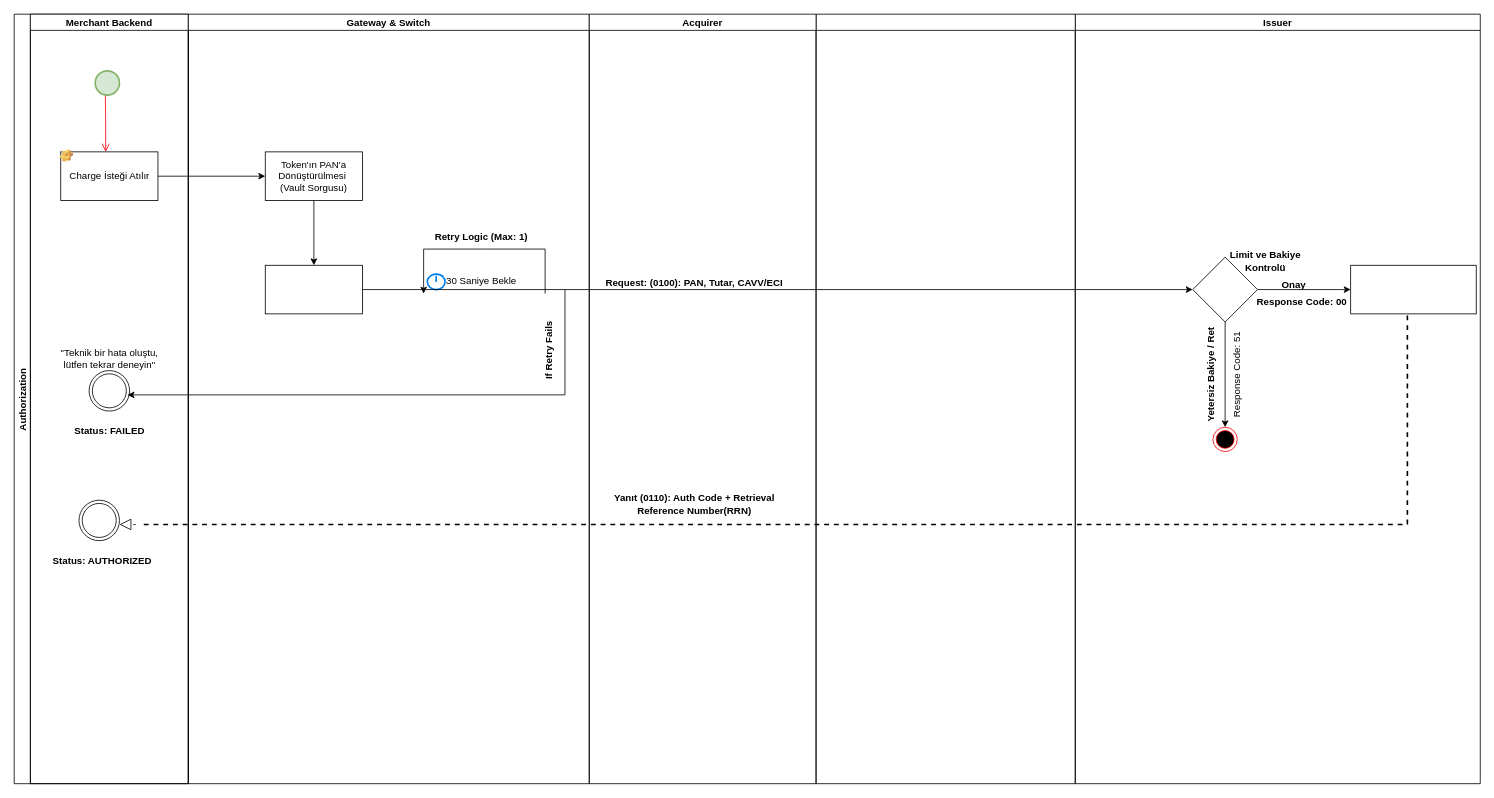
This 1494x798 diagram has some shape labels left out. Each missing label, with the centre of its shape:
Card Scheme: pixel 945 398
ISO 8583(0100) Paketi Hazırlanır: pixel 313 289
Tutar Bloke Edilir (Auth Hold) & Auth Code Üretilir: pixel 1413 289
